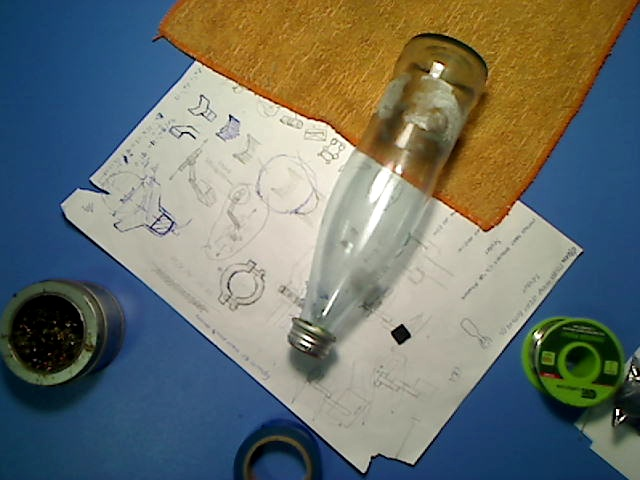bottle: (285, 33, 490, 360)
